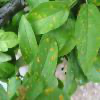Apple rust leaf: (25, 33, 60, 91), (73, 2, 99, 79), (24, 2, 70, 32), (17, 14, 39, 68), (25, 72, 43, 99), (5, 74, 23, 99)
